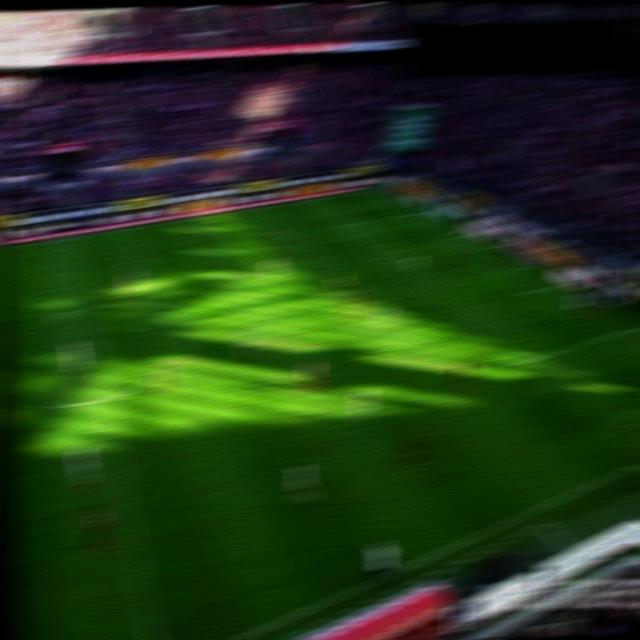bigarea_bottom_inner: (504, 354, 535, 372)
bigarea_bottom_outter: (628, 319, 640, 330)
bigarea_top_inner: (325, 219, 346, 231)
bigarea_top_outter: (415, 205, 437, 215)
bottom_arc_area_intersection: (429, 297, 451, 308)
corner: (372, 184, 393, 194)
halfcircle_bottom: (95, 393, 115, 404)
halfcircle_top: (77, 302, 98, 312)
midline_top_intersection: (63, 232, 84, 243)
smallarea_bottom_inner: (517, 285, 537, 296)
smallarea_bottom_outter: (550, 277, 570, 288)
smallarea_top_inner: (429, 234, 449, 244)
smallarea_top_outter: (458, 228, 479, 239)
top_arc_area_intersection: (367, 250, 387, 261)
